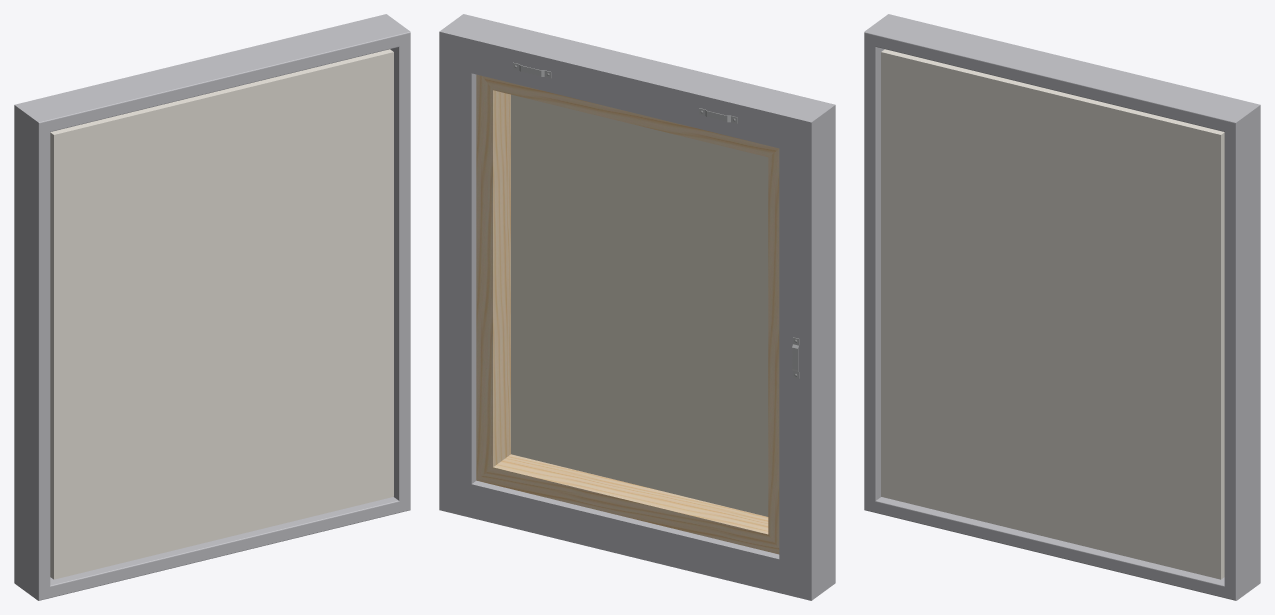
The model's file is delivery.glb.
The picture shows the model from 3 angles, left to right: view 1: azimuth 30°, elevation 25°; view 2: azimuth 150°, elevation 25°; view 3: azimuth 330°, elevation 25°; orthographic projection.
Parts seen in each view (by area): view 1: Canvas artwork front, Tray approved profile 0; view 2: Canvas linen reverse, Tray approved profile 0, Stretcher top, Sawtooth hanger 0; view 3: Canvas artwork front, Tray approved profile 0.
Part boxes in pixels (x1=…): Canvas artwork front: x1=50, y1=49, x2=393, y2=579; Tray approved profile 0: x1=14, y1=14, x2=410, y2=600; Canvas linen reverse: x1=511, y1=94, x2=768, y2=516; Tray approved profile 0: x1=439, y1=14, x2=835, y2=600; Stretcher top: x1=476, y1=74, x2=779, y2=554; Sawtooth hanger 0: x1=513, y1=62, x2=799, y2=378; Canvas artwork front: x1=881, y1=49, x2=1224, y2=579; Tray approved profile 0: x1=864, y1=14, x2=1260, y2=600.
Bounding box in the file's own units: 0.438 × 0.538 × 0.0524.
Materials: 7 (2 with a texture image).
